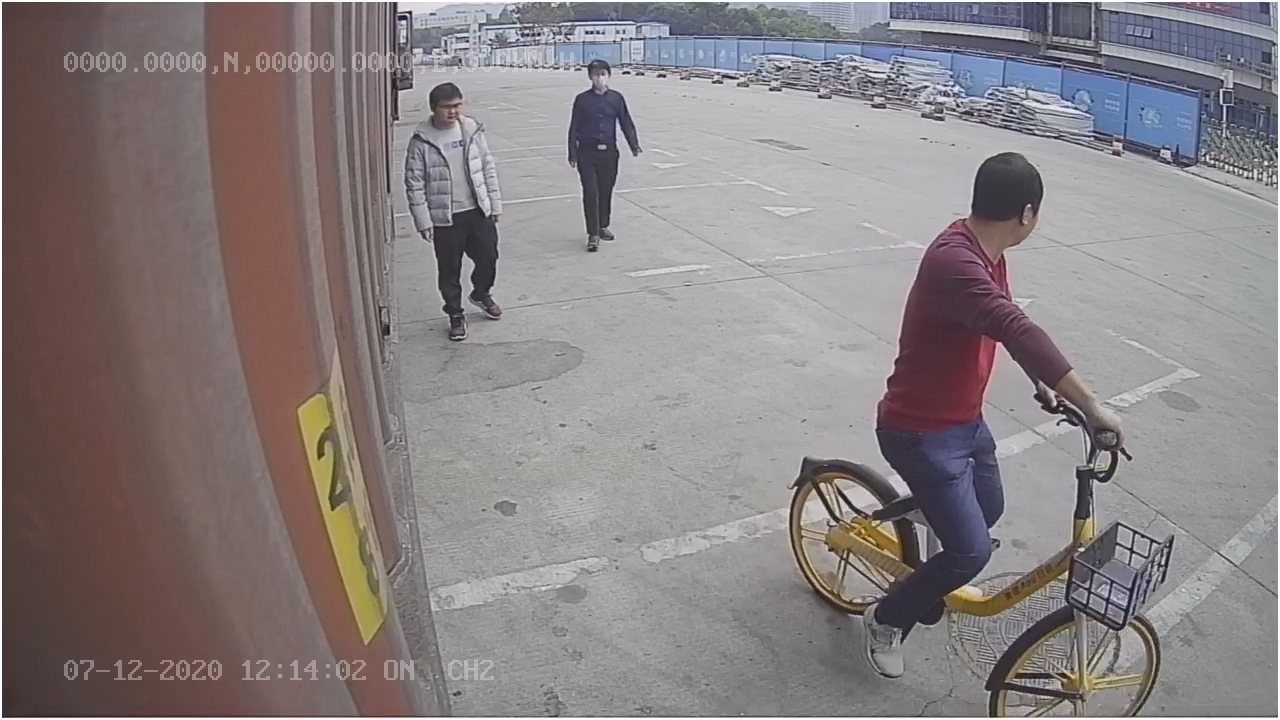person: (401, 83, 508, 345), (552, 52, 652, 266)
